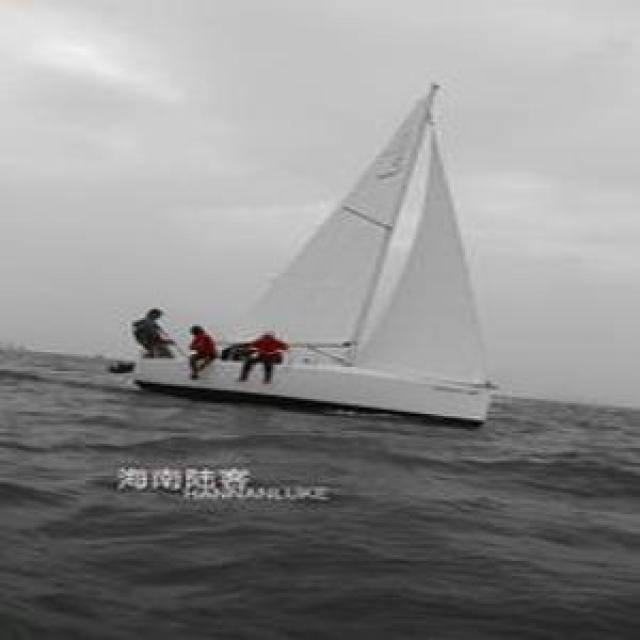sailboat: (109, 90, 532, 472)
